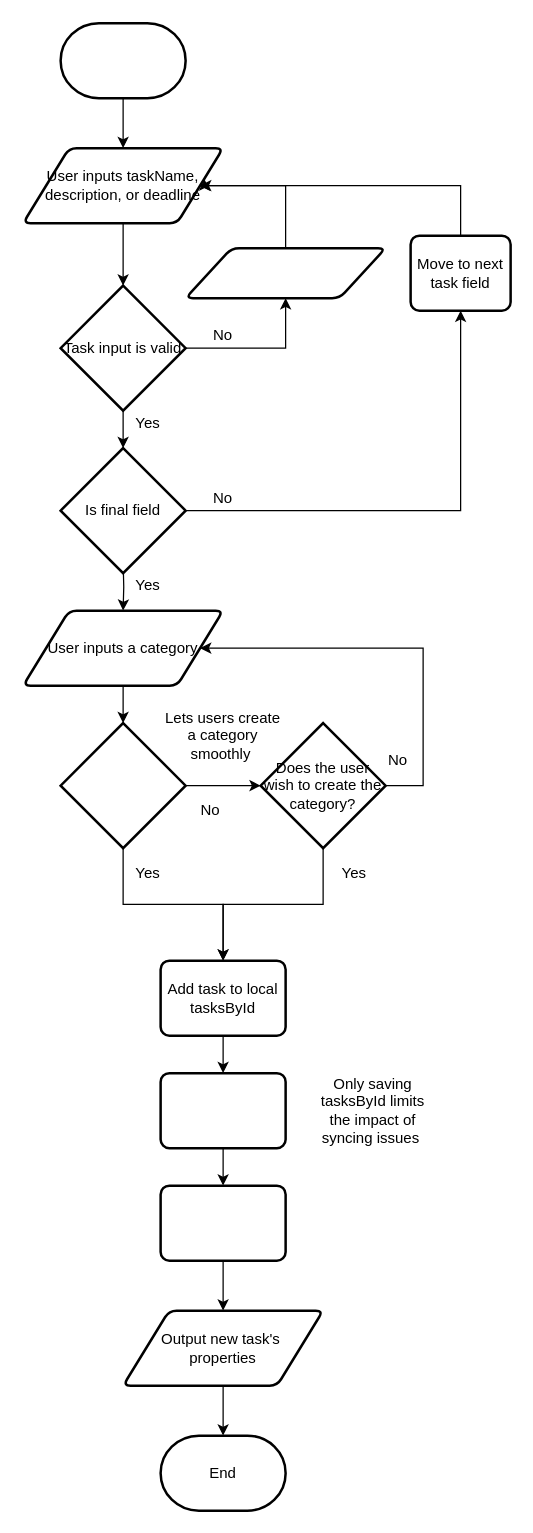
Image size: 533x1533. Some labels were removed from this diagram. Here are the shapes that lost their labels. From the top down, the centre of each, then its label:
At pixel 122 60: "Start".
At pixel 285 272: "Output error message".
At pixel 122 785: "Does the category already exist?".
At pixel 222 1110: "Save tasksById to persistent tasks.json".
At pixel 222 1222: "Add task to local tasksByCategory".
